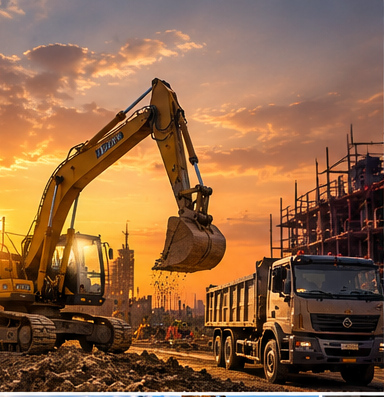excavator: (3, 68, 206, 376)
truck: (196, 240, 380, 380)
